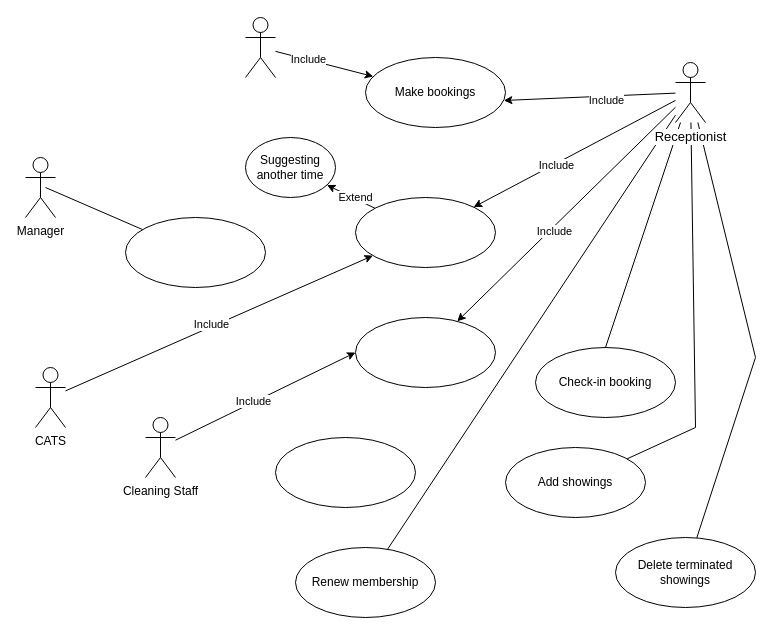
The diagram is 774 pixels wide and 635 high, and some of its shapes have lost their labels. The box of each missing label's shape, as (x1, y1, x2, y2) in pixels:
Cancel booking: (354, 196, 496, 268)
CRCard Vetting: (244, 16, 276, 78)
Make a report: (124, 216, 266, 288)
Manage membership: (274, 436, 416, 508)
Overview of bookings: (354, 316, 496, 388)
